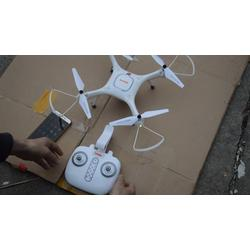drone: (50, 56, 196, 153)
